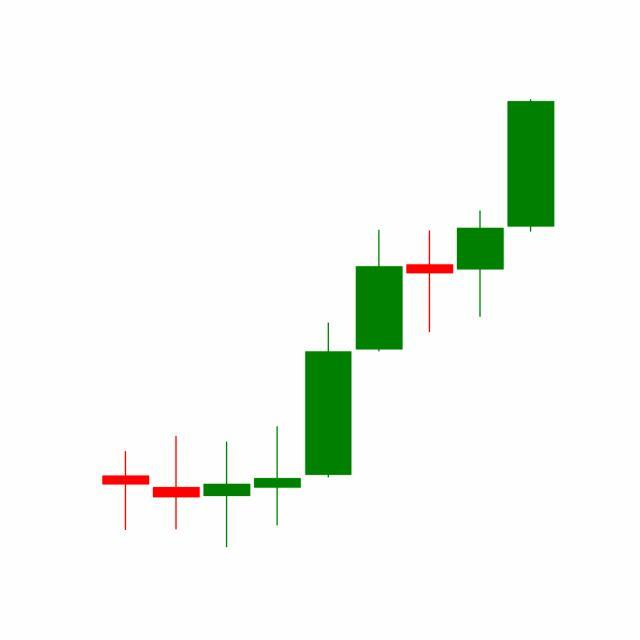Hikkake Pattern: (252, 207, 506, 529)
